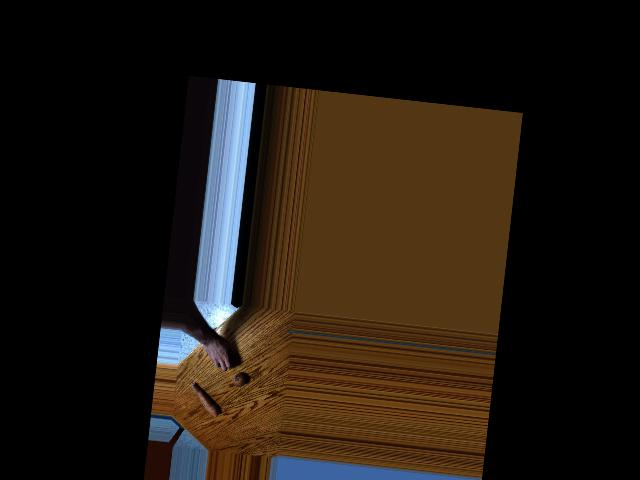onion: (220, 347, 237, 367)
